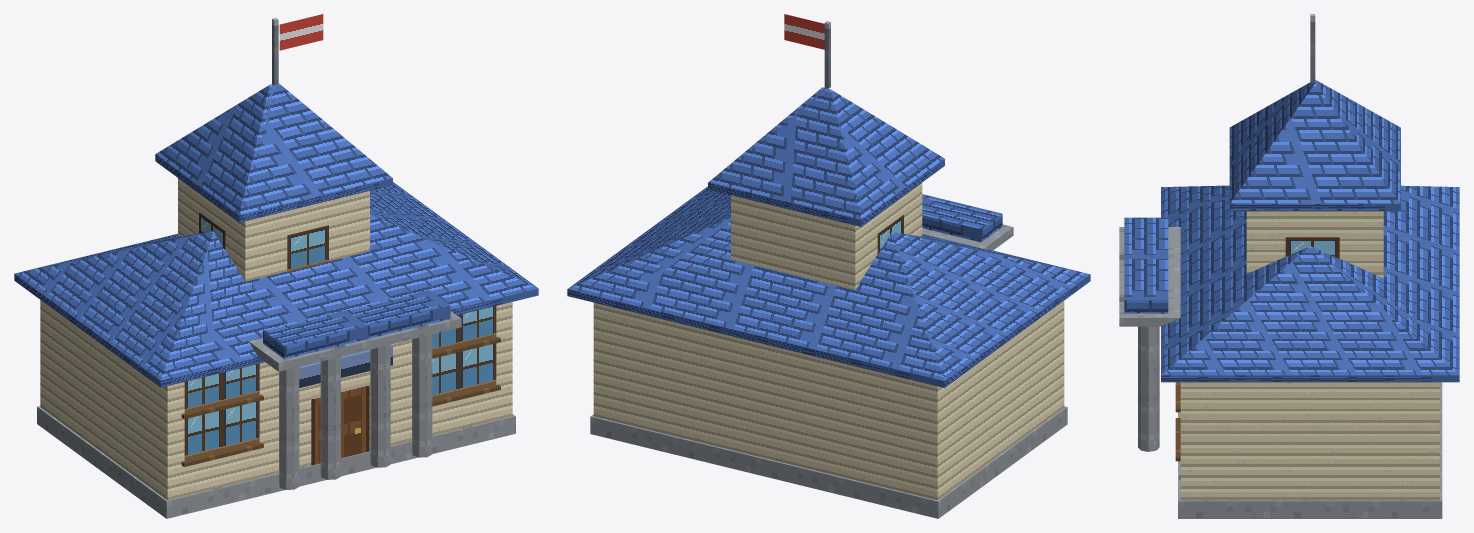
The picture shows the model from 3 angles, left to right: view 1: azimuth 30°, elevation 25°; view 2: azimuth 150°, elevation 25°; view 3: azimuth 270°, elevation 25°; orthographic projection. The views are drawn at different scales.
Visible parts, largest first — view 1: hq; view 2: hq; view 3: hq.
Part boxes in pixels (left/top/right/bottom): hq: left=14, top=14, right=538, bottom=518; hq: left=567, top=14, right=1090, bottom=518; hq: left=1119, top=14, right=1459, bottom=518.
Size of the model in its own units: 9.1 by 9.4 by 6.95.
Materials: 9 (9 with a texture image).
